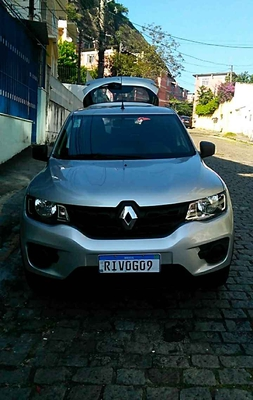Frontal Veiculo: (23, 109, 235, 288)
